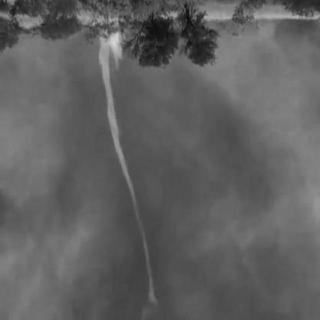Fire: (92, 28, 160, 310)
Smoke: (183, 82, 303, 294), (8, 56, 64, 274)
